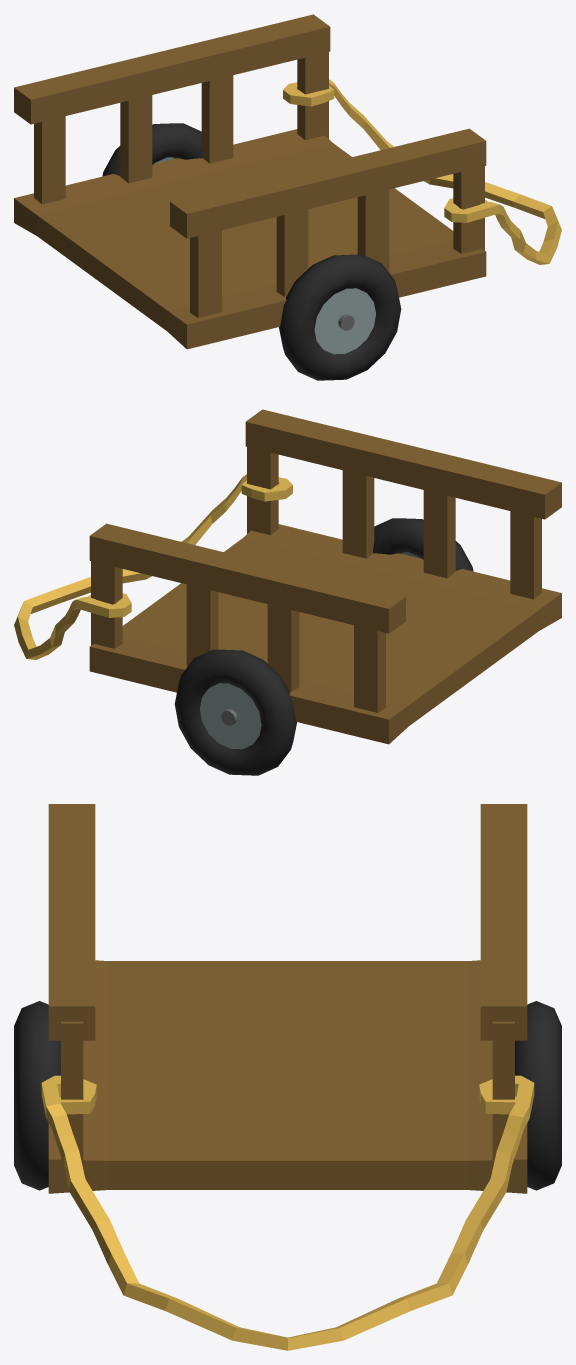
File: cart.dae
3 renders of one model, top to bottom at view 1: azimuth 30°, elevation 25°; view 2: azimuth 150°, elevation 25°; view 3: azimuth 270°, elevation 25°, orthographic. The views are drawn at different scales.
Visible parts, largest first — view 1: Cube; view 2: Cube; view 3: Cube.
Part boxes in pixels (x1,y1,x2,y2): Cube: (14, 14, 561, 380); Cube: (14, 409, 561, 775); Cube: (14, 804, 561, 1350).
Size of the model in its own units: 2.88 by 2.17 by 1.21.
